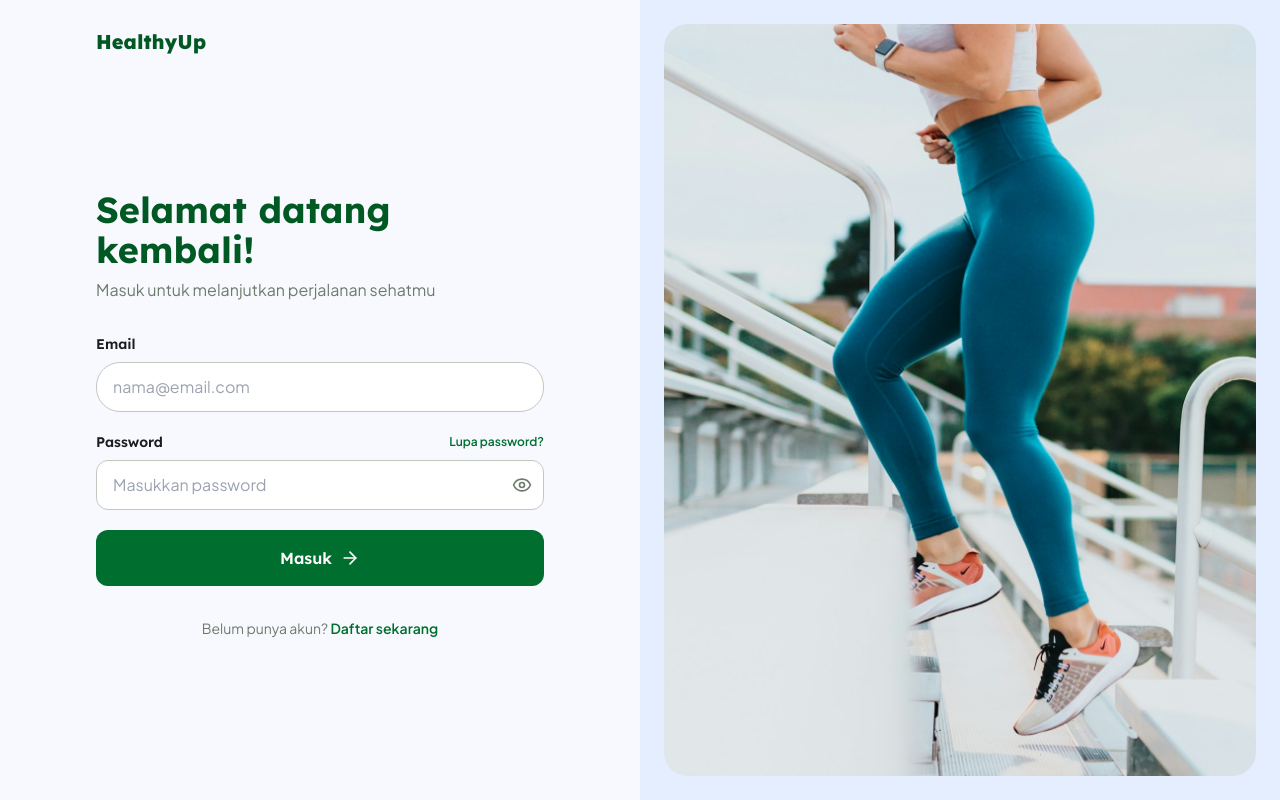
Test: Login Page › menampilkan error password kurang dari 8 karakter
Step 1. Type "user@email.com" into the field labelled "Email" → [320, 387], box [96,362,544,412]
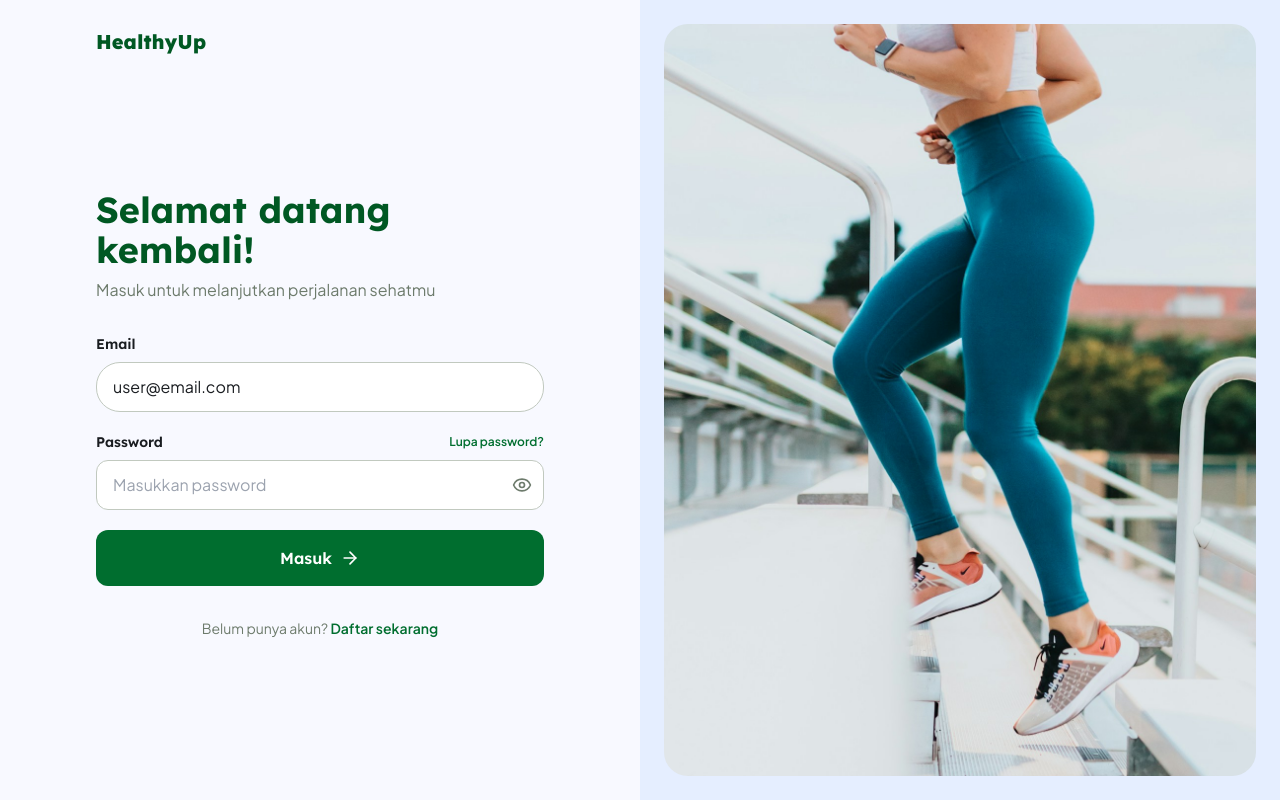
Step 2. Type "123" into the password field labelled "Password" → [320, 485], box [96,460,544,510]
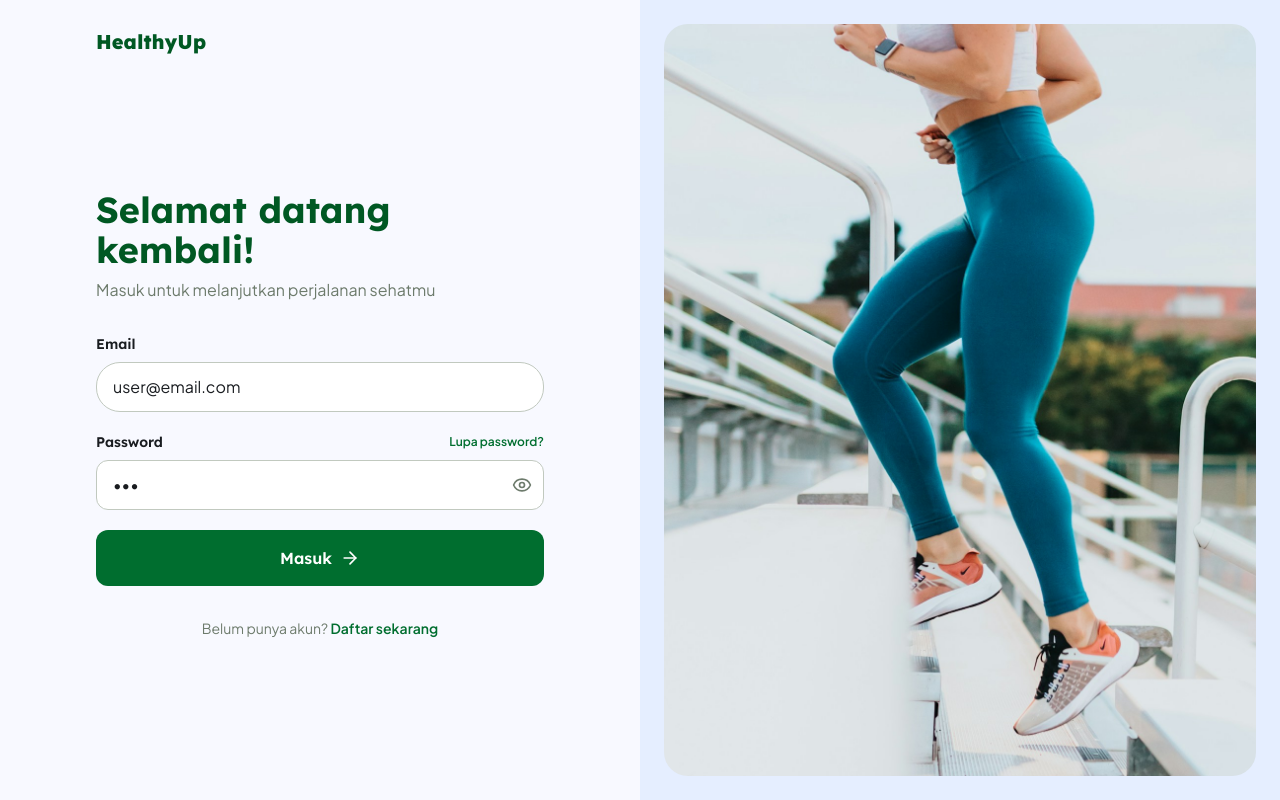
Step 3. Click the button "Masuk" → [320, 558], box [96,530,544,586]
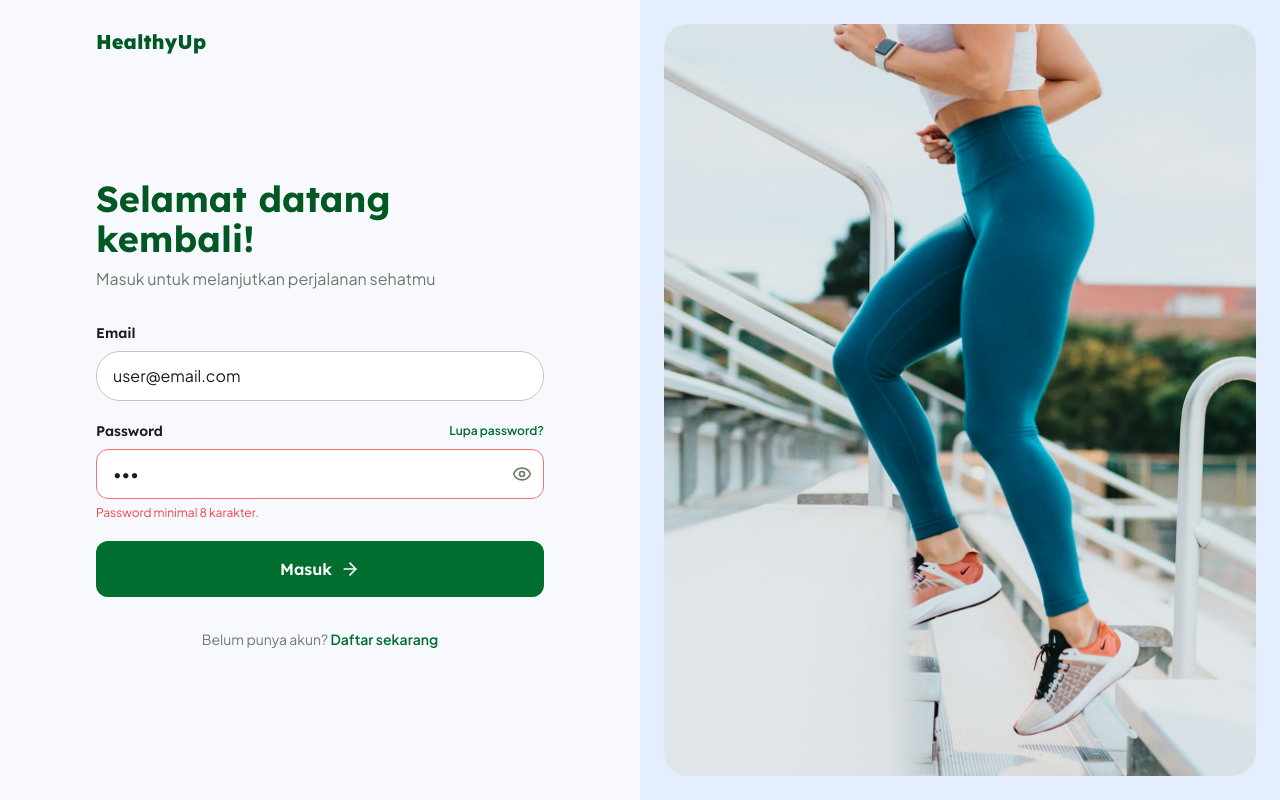
Expected: the text "Password minimal 8 karakter." is shown, [96,505,259,520]
